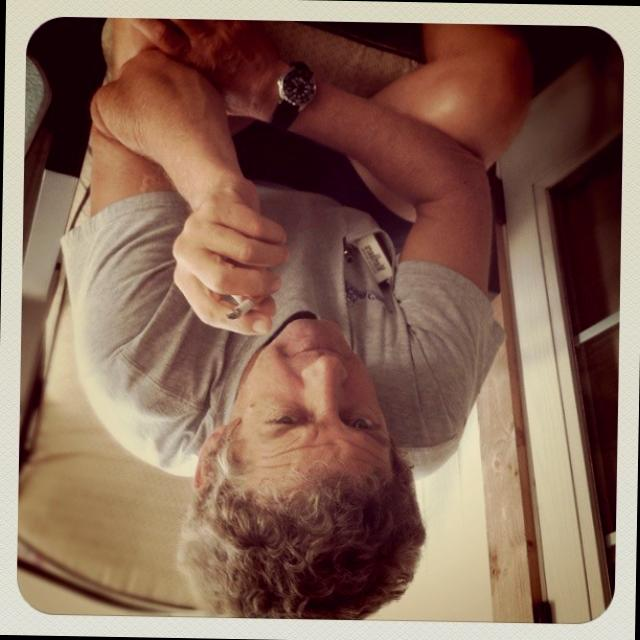smoke: (197, 276, 311, 338)
